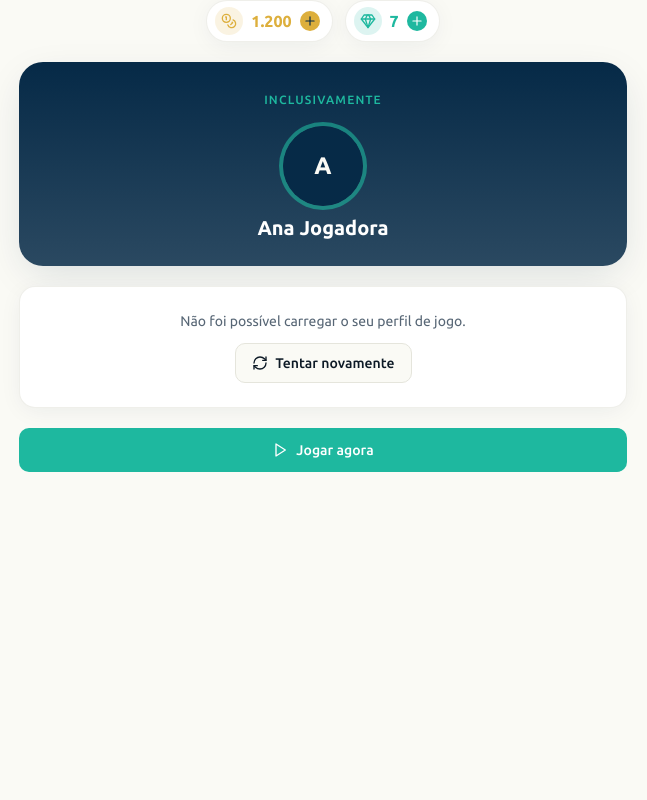
PerfilJogador › se a API falhar, mostra erro e deixa tentar outra vez
Check: the link "Jogar agora" is shown, box [19,428,627,472]
Click the button "Tentar novamente": (323, 363) [234,343,412,383]
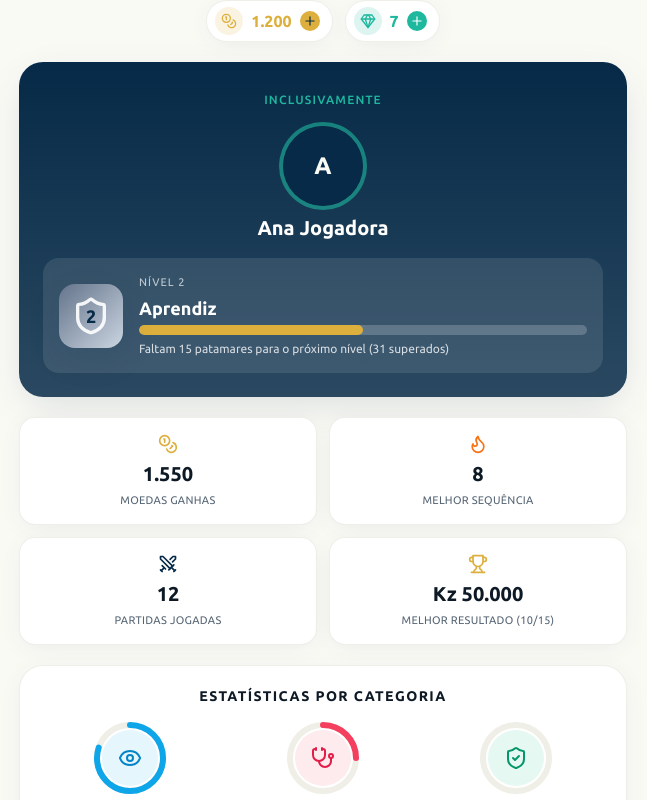
Check: the element with test id "cracha-nivel" is shown, box [43,258,603,373]
